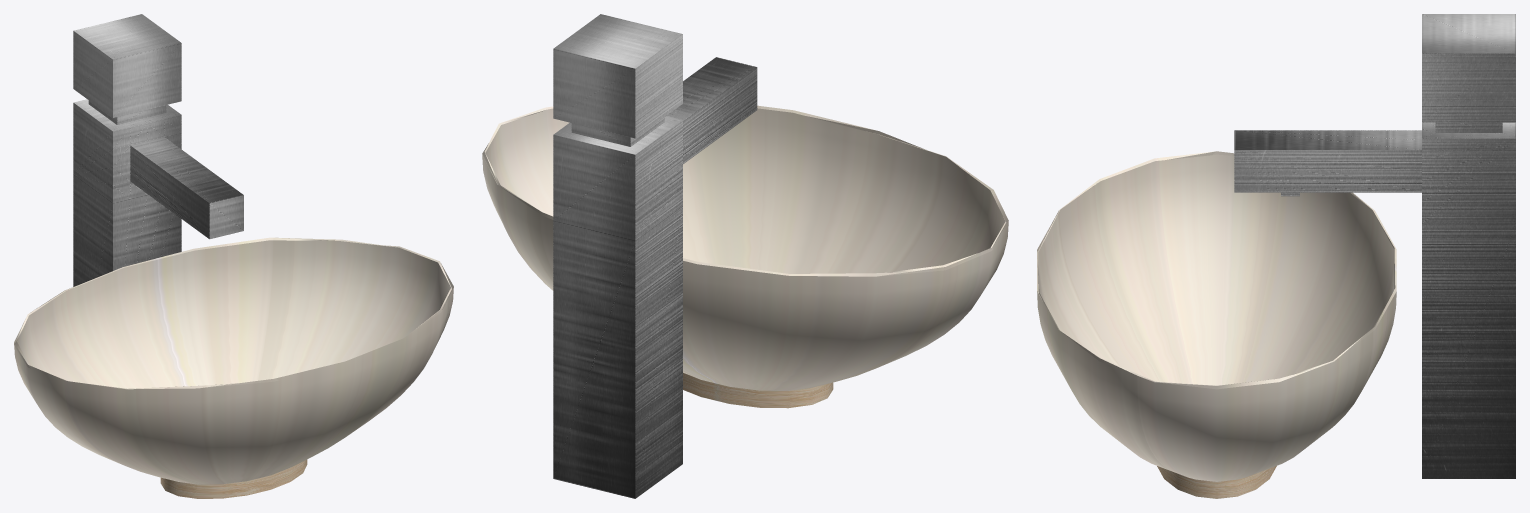
File: Sink.FBX
The picture shows the model from 3 angles, left to right: view 1: azimuth 30°, elevation 25°; view 2: azimuth 150°, elevation 25°; view 3: azimuth 270°, elevation 25°; orthographic projection. The views are drawn at different scales.
Visible parts, largest first — view 1: Cylinder001, Box001; view 2: Cylinder001, Box001; view 3: Cylinder001, Box001.
Part boxes in pixels (left/top/right/bottom): Cylinder001: left=14, top=237, right=453, bottom=498; Box001: left=73, top=14, right=243, bottom=286; Cylinder001: left=482, top=105, right=1008, bottom=408; Box001: left=553, top=14, right=757, bottom=498; Cylinder001: left=1037, top=151, right=1396, bottom=498; Box001: left=1234, top=14, right=1515, bottom=478.
Bounding box in the file's own units: 30 × 25 × 25.5.
Materials: 2 (2 with a texture image).
